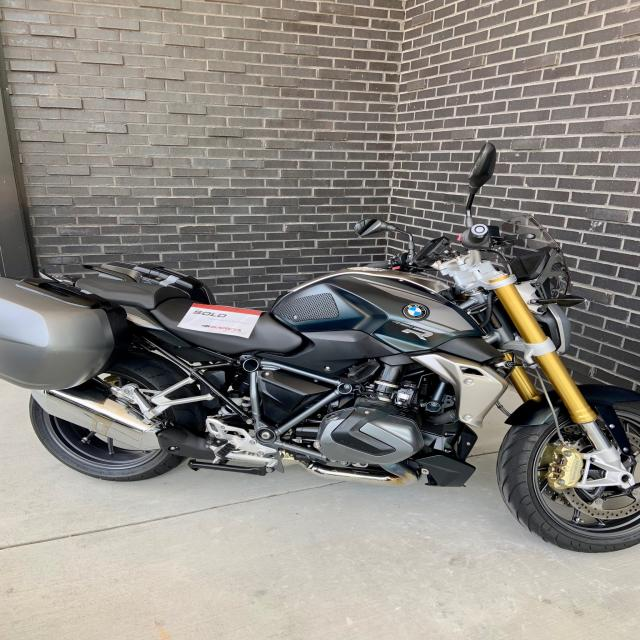Motorcycle: (0, 221, 640, 553)
